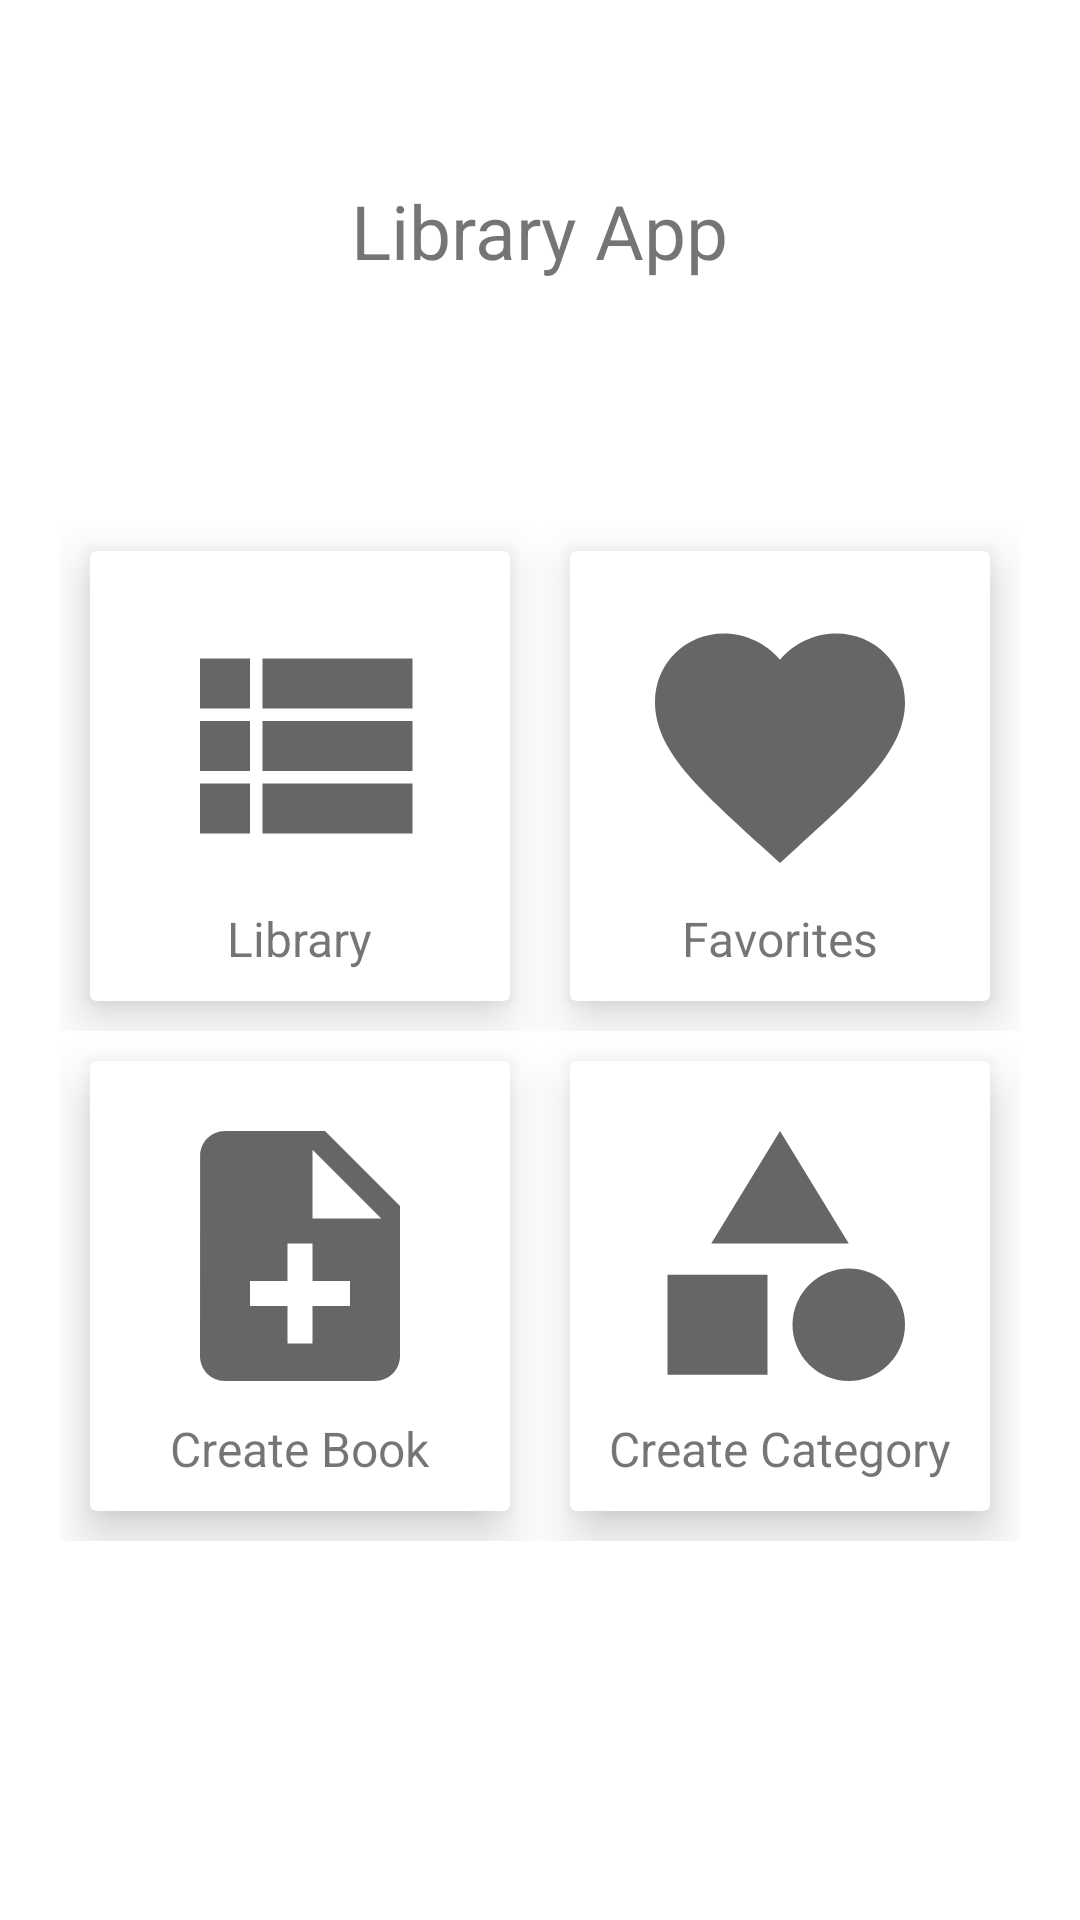

Point at icon controls on the screen. Image size 1080×1920, points as (x=x, y=y).
note add: (x=300, y=1256)
view list: (x=306, y=746)
